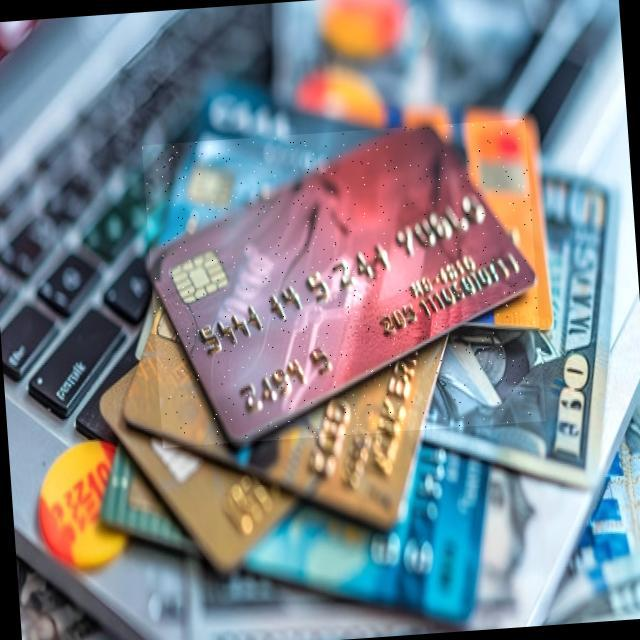payment_card: (144, 122, 537, 448)
